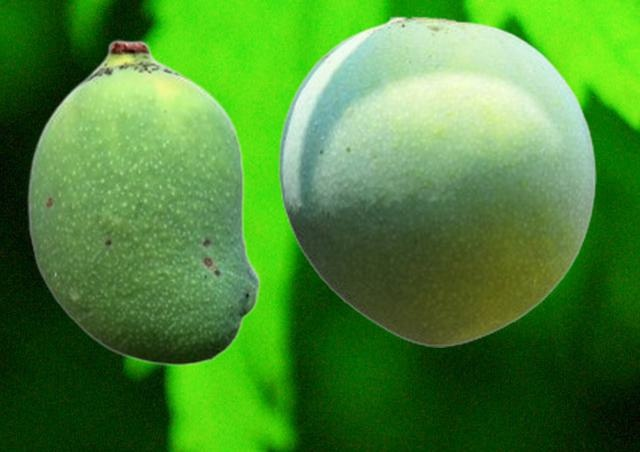green_mango: (278, 14, 595, 346), (27, 39, 260, 366)
